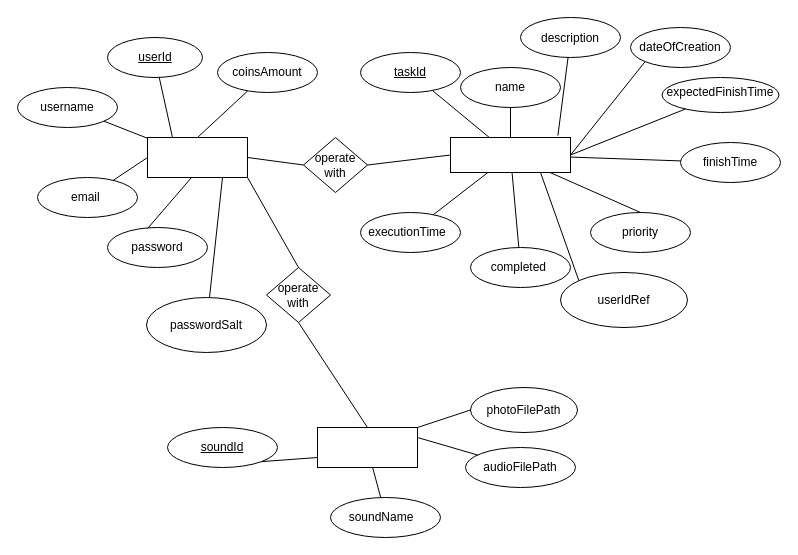
The diagram is 798 pixels wide and 555 high, and some of its shapes have lost their labels. Here are the shapes that lost their labels. From the top down, the centre of each, then its label:
pixel 197 157: User
pixel 510 154: Task
pixel 367 447: Sound
